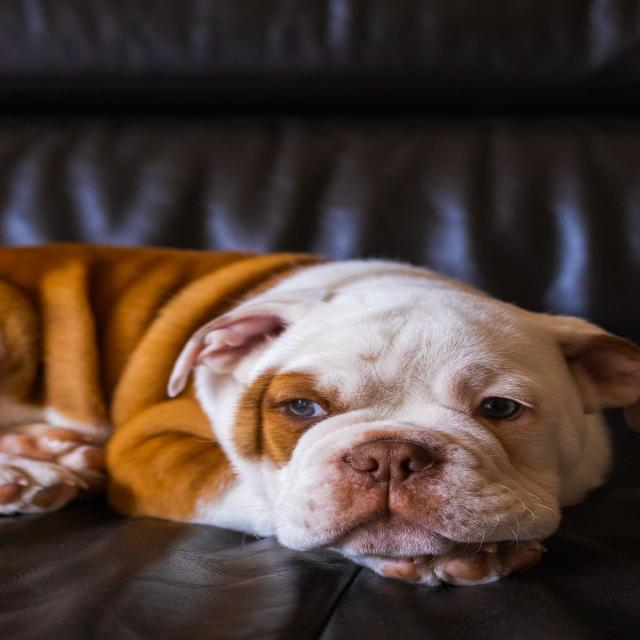bulldog: (141, 239, 640, 577)
